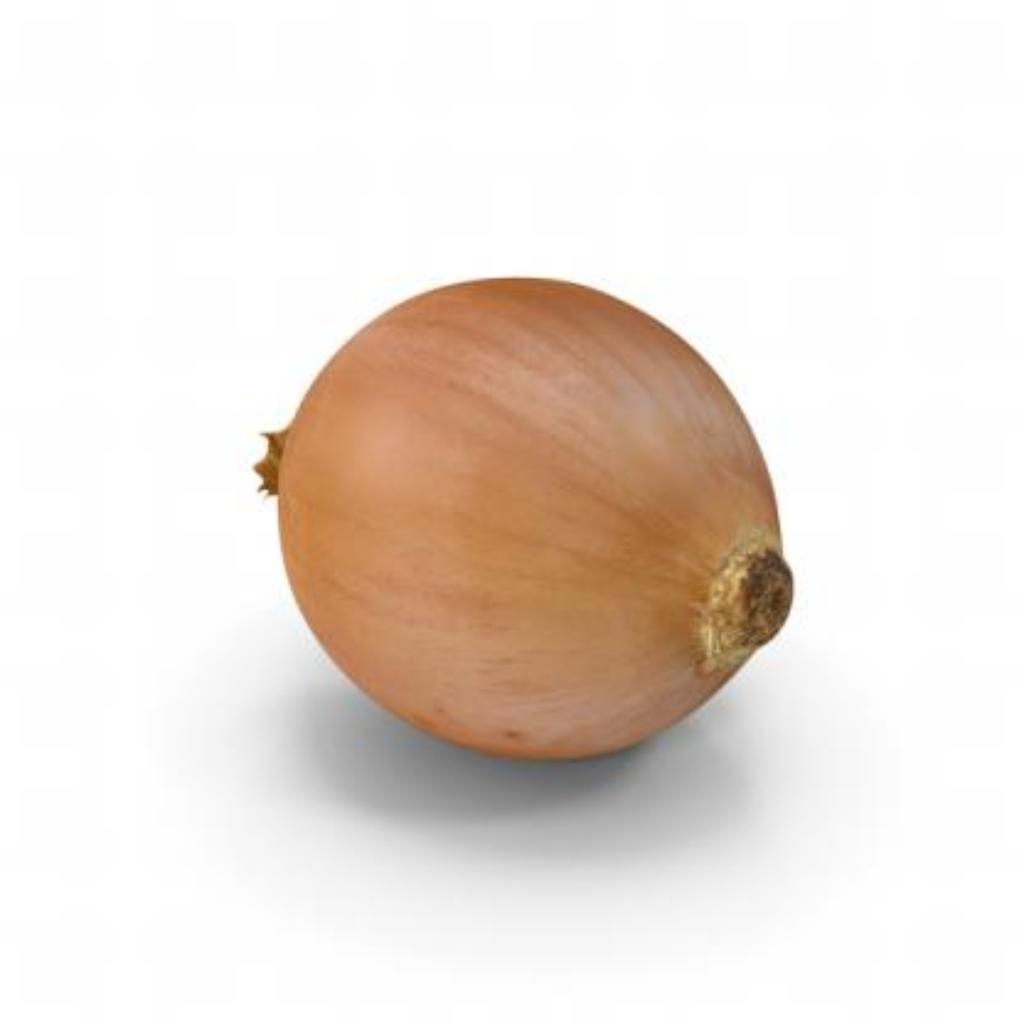Onion: (256, 278, 795, 759)
